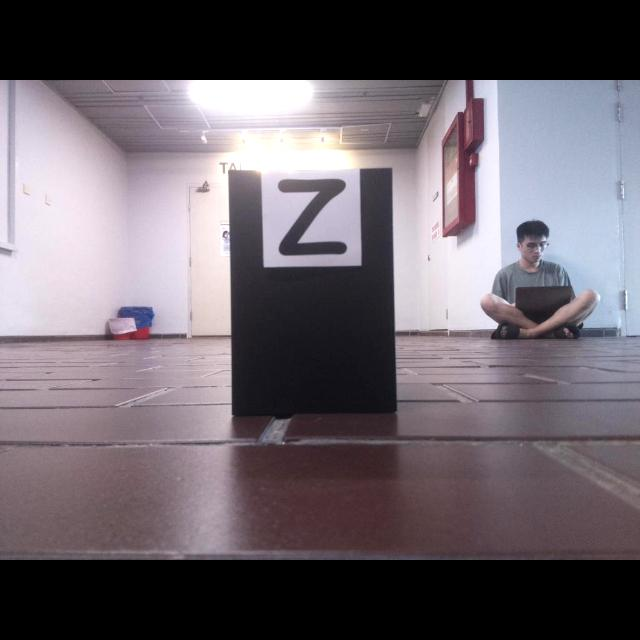Z: (278, 179, 347, 256)
